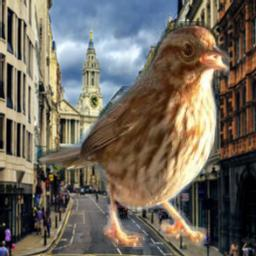Sparrow: (33, 21, 230, 247)
